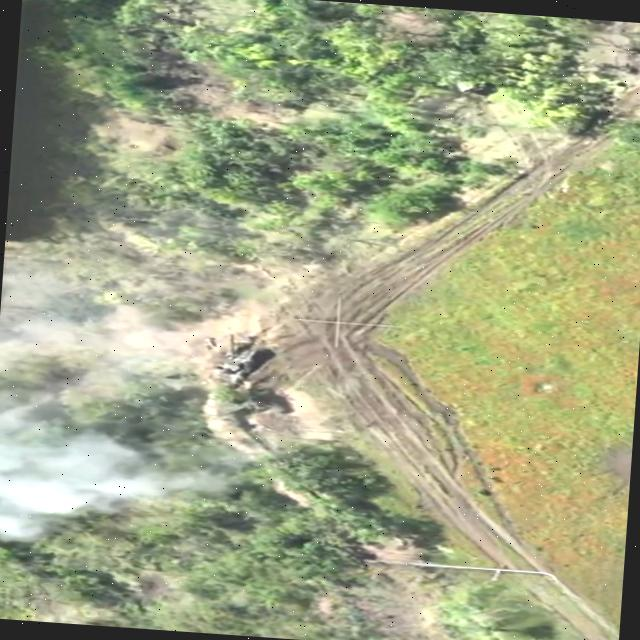MBT: (213, 332, 270, 386)
